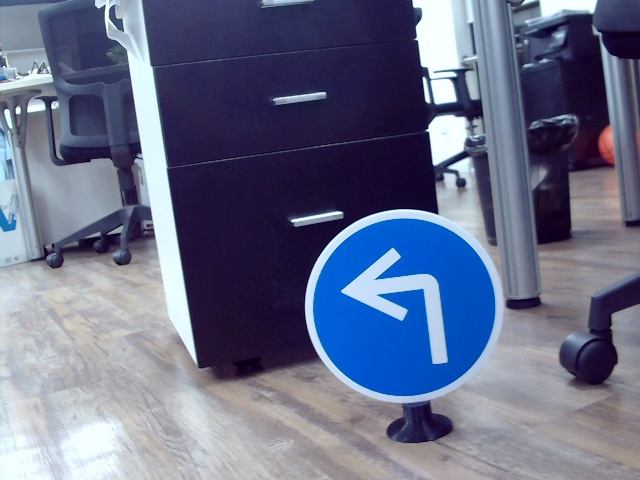turn_left: (341, 244, 457, 364)
